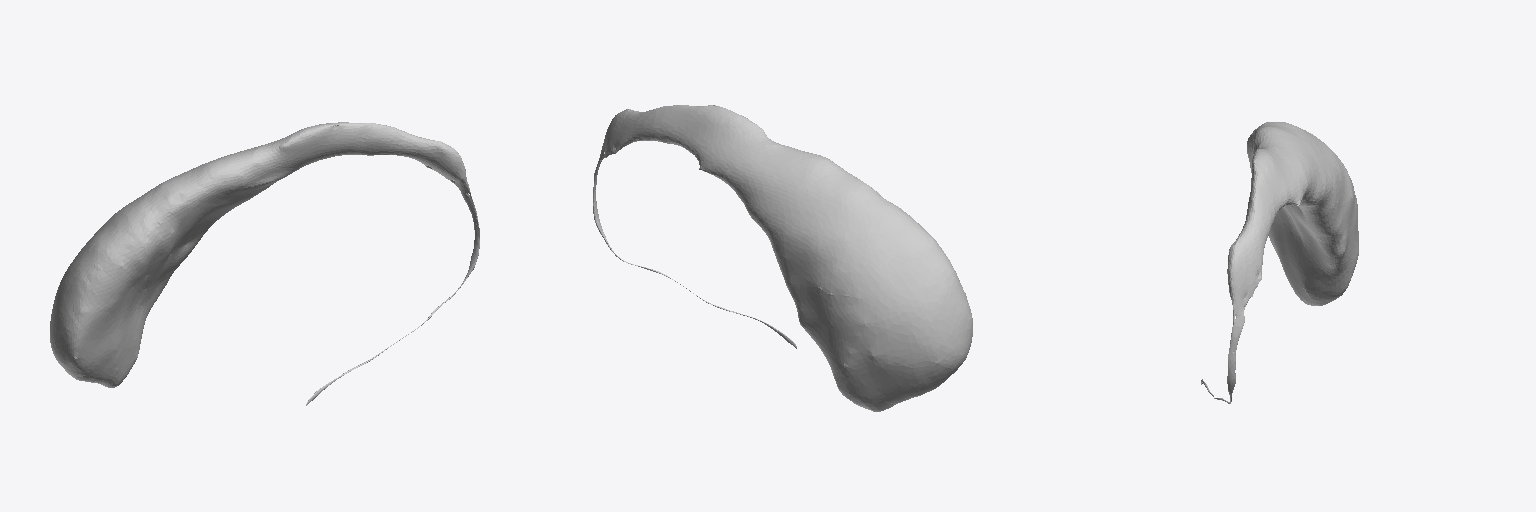
File: L-Caudate.obj
The picture shows the model from 3 angles: view 1: azimuth 30°, elevation 25°; view 2: azimuth 150°, elevation 25°; view 3: azimuth 270°, elevation 25°; orthographic projection.
Visible parts, largest first — view 1: L-caudate_caudate-nucleus; view 2: L-caudate_caudate-nucleus; view 3: L-caudate_caudate-nucleus.
Part boxes in pixels (left/top/right/bottom): L-caudate_caudate-nucleus: left=50, top=122, right=479, bottom=405; L-caudate_caudate-nucleus: left=593, top=105, right=972, bottom=411; L-caudate_caudate-nucleus: left=1201, top=122, right=1358, bottom=403.
Bounding box in the file's own units: 89.82 × 54.17 × 31.06.